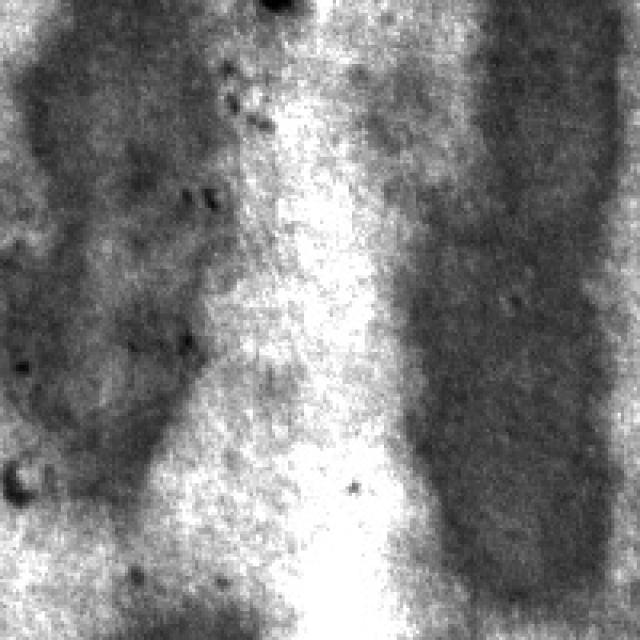patches: (410, 0, 634, 602), (3, 0, 218, 499)
